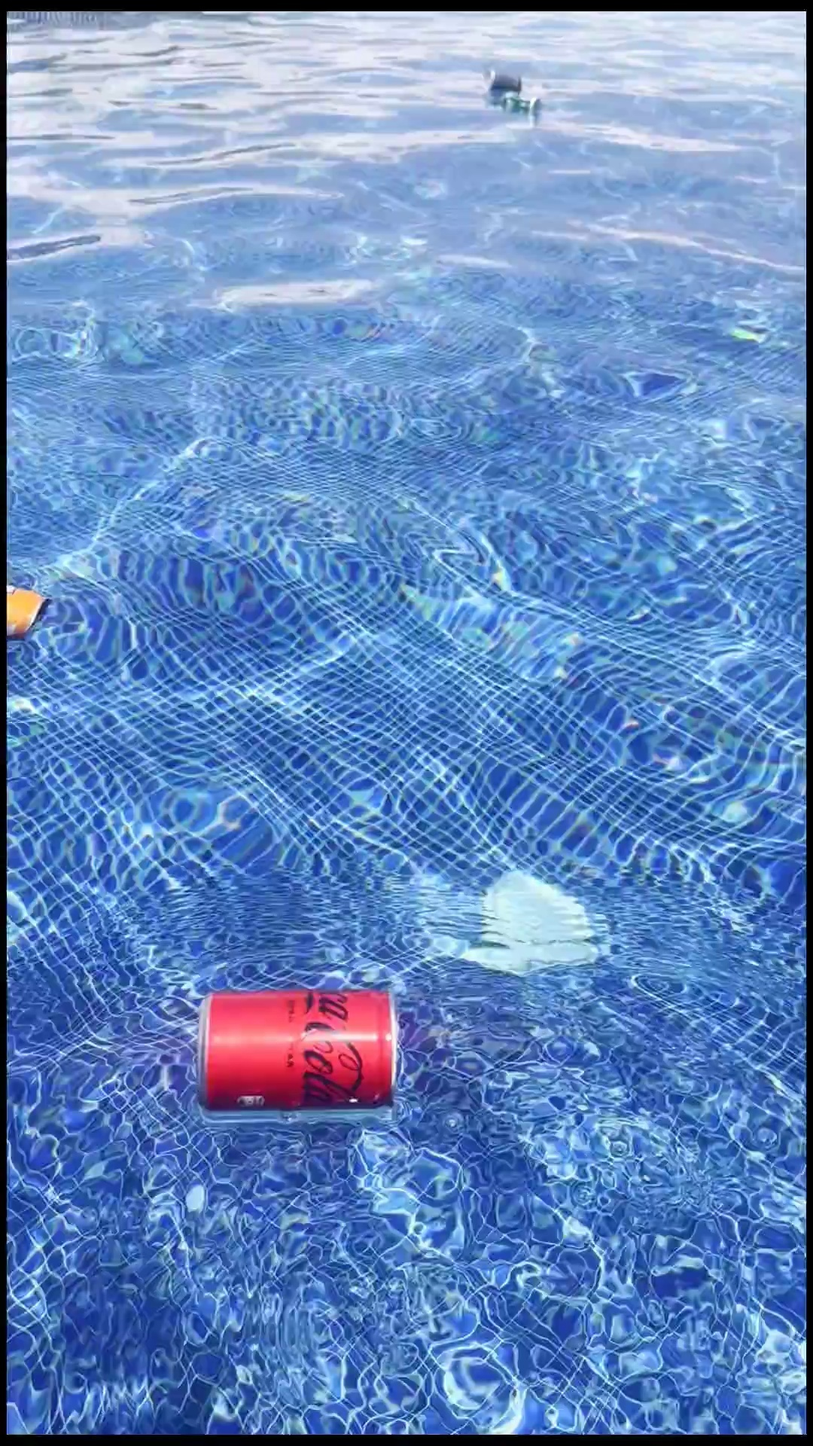debris: (193, 968, 403, 1121), (8, 560, 50, 651), (499, 85, 542, 127), (484, 60, 519, 100)
